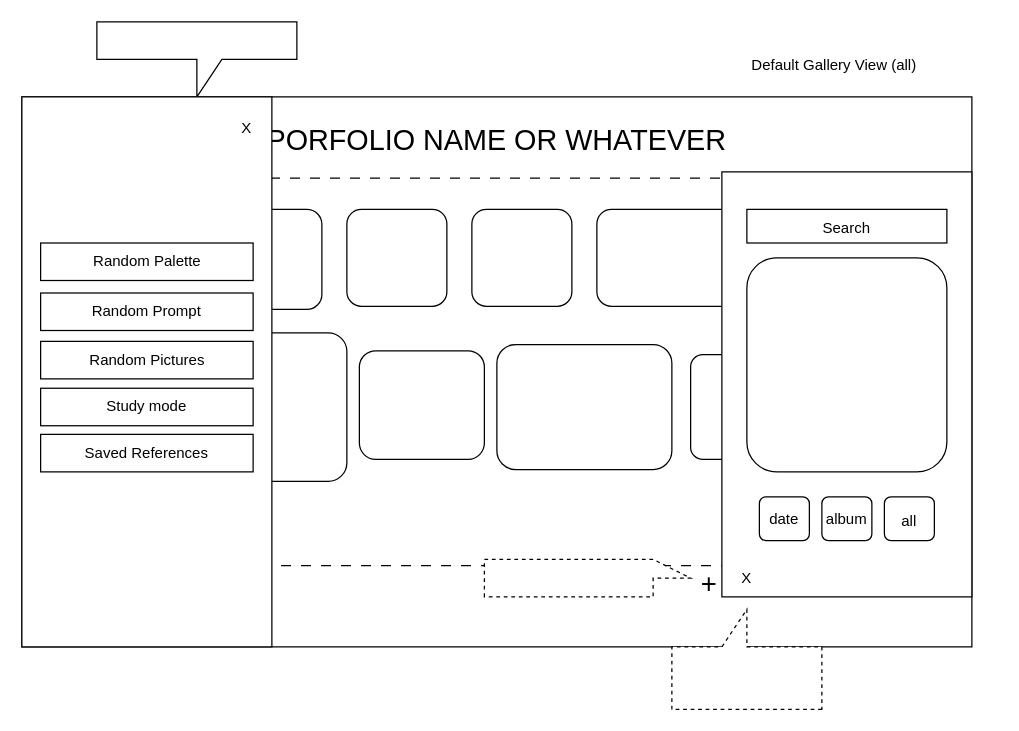
This 1019x731 diagram has some shape labels left out. Here are the shapes that lost their labels. From the top down, the centre of each, then its label:
At pixel 196 59: "Flyout Menu".
At pixel 846 364: "List of tags here to view by tags".
At pixel 587 577: "Perhaps new Upload button here".
At pixel 746 658: "Press view by button".
